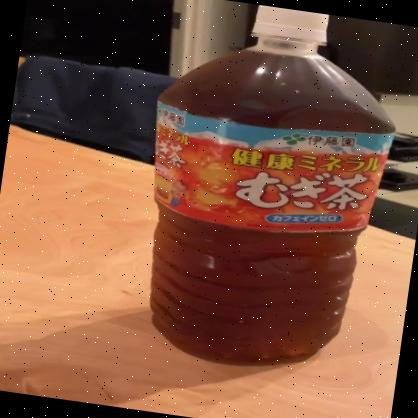bottle: (122, 0, 412, 382)
cap: (244, 4, 340, 51)
label: (142, 104, 395, 244)
